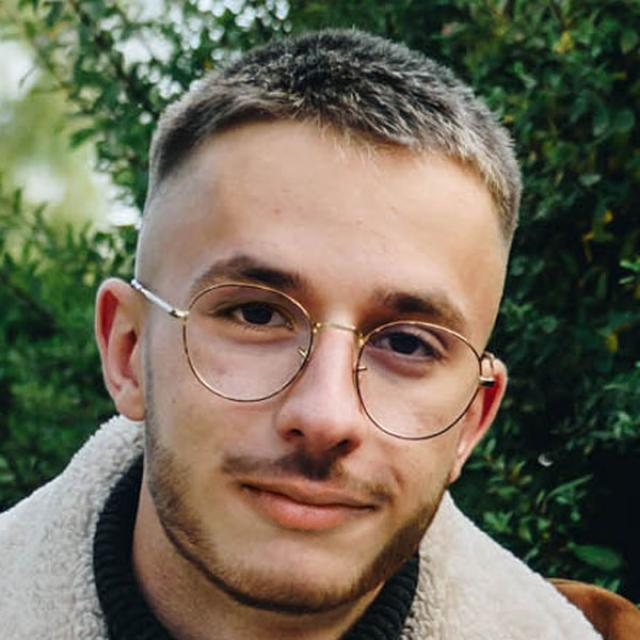face: (91, 47, 520, 616)
